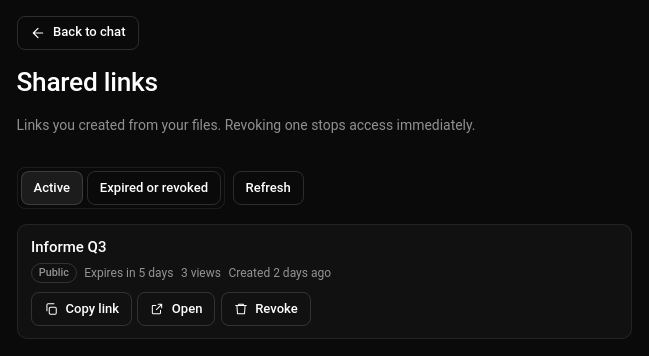
SharedLinksView › community rows with a null url still list; the inactive one has no Copy
Expected: the number of list items with test id "link-row" is 1, [16,224,632,339]
Click the button "Expired or revoked" at coordinates (154, 188), box [87,171,221,205]
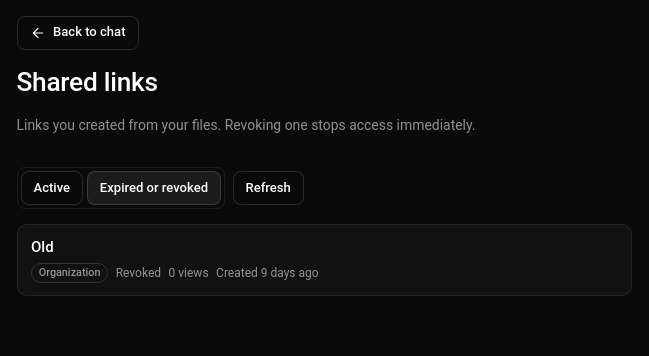
Expected: the list item with test id "link-row" shows "Revoked", [116,266,161,280]
Expected: the button "Copy link" is gone
